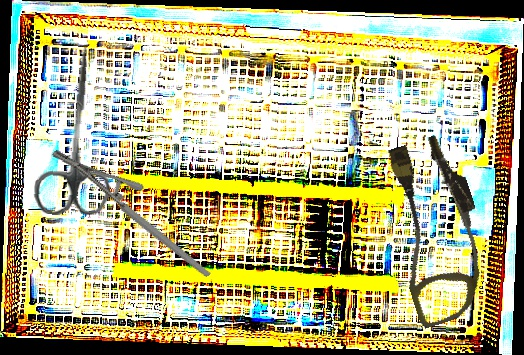Cannula: (366, 130, 507, 330)
Iris Scissors: (32, 43, 120, 219)
Needle Holder: (49, 115, 212, 313)
